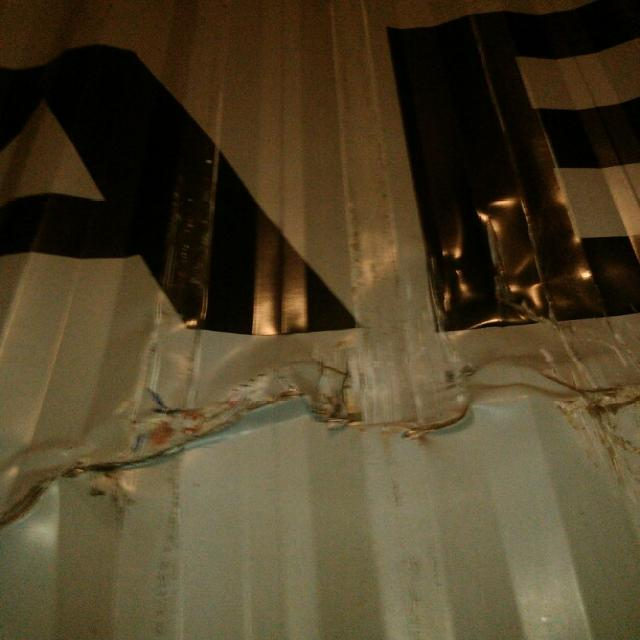dent: (1, 282, 639, 539)
